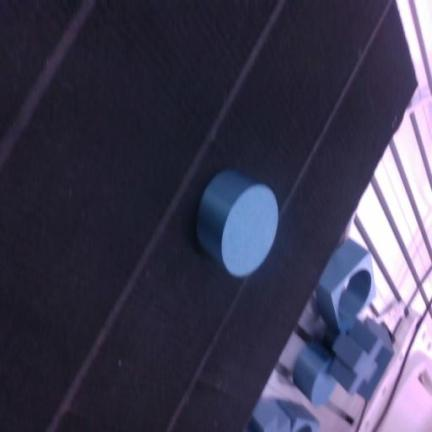cylinder: (197, 170, 278, 277)
